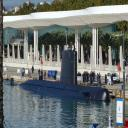submarine: (11, 51, 112, 103)
